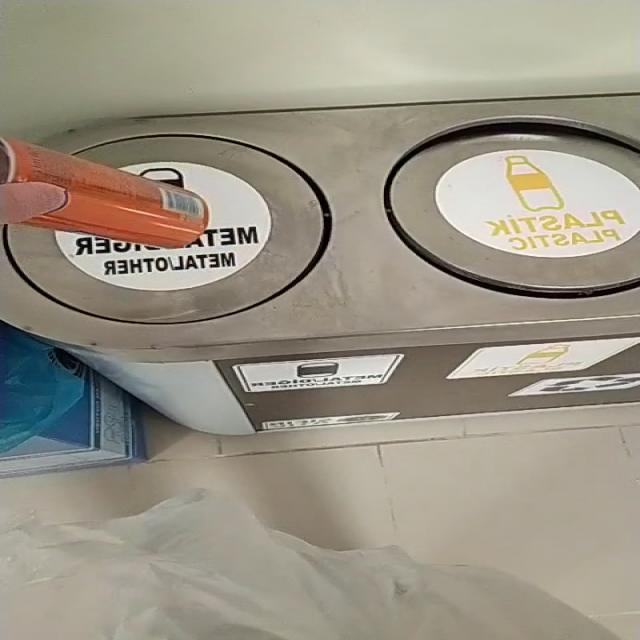bin: (1, 94, 640, 436)
metal: (6, 139, 208, 248)
